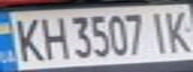0: (106, 11, 130, 57)
3: (66, 12, 93, 60)
5: (87, 11, 112, 58)
7: (124, 10, 148, 56)
H: (33, 12, 69, 61)
I: (145, 8, 172, 55)
K: (6, 14, 48, 63), (160, 7, 193, 54)
